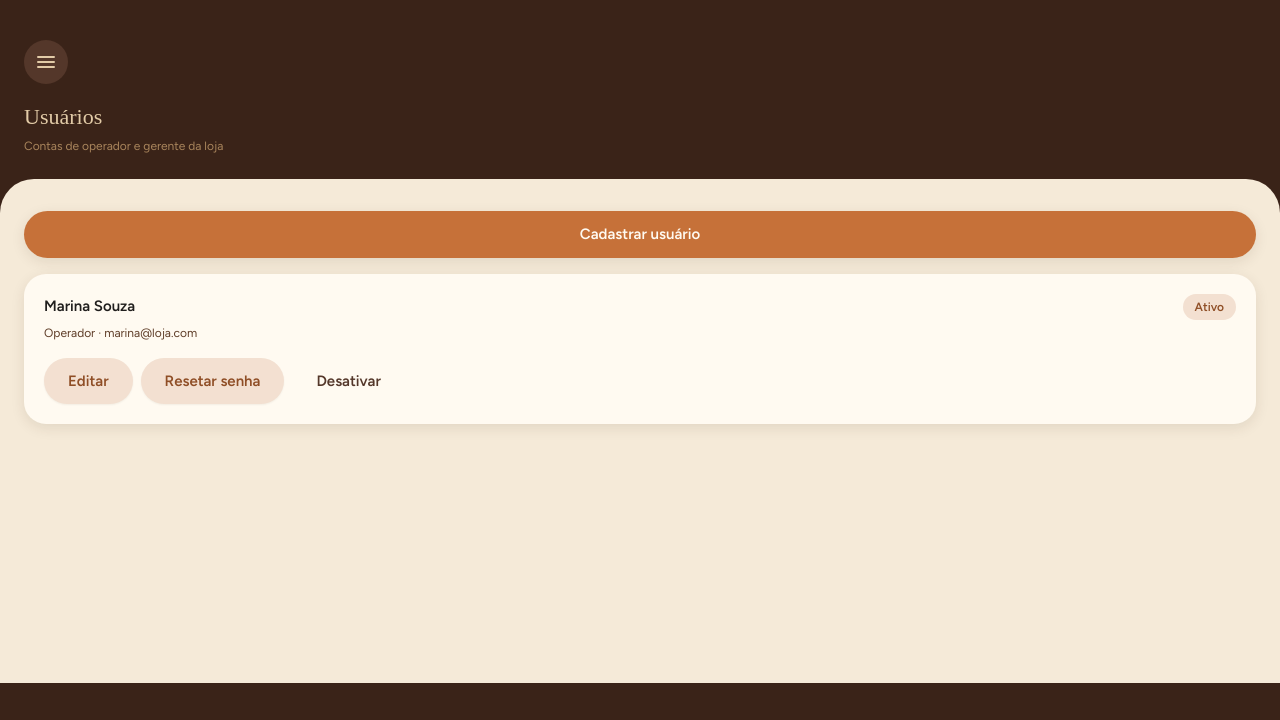
UsersScreen › mostra a senha inicial depois de resetar, para o admin comunicá-la ao funcionário
Expected: the text "Marina Souza" is shown, [44,294,135,317]
Click the button "Resetar senha" at (213, 381), box [141,358,284,404]
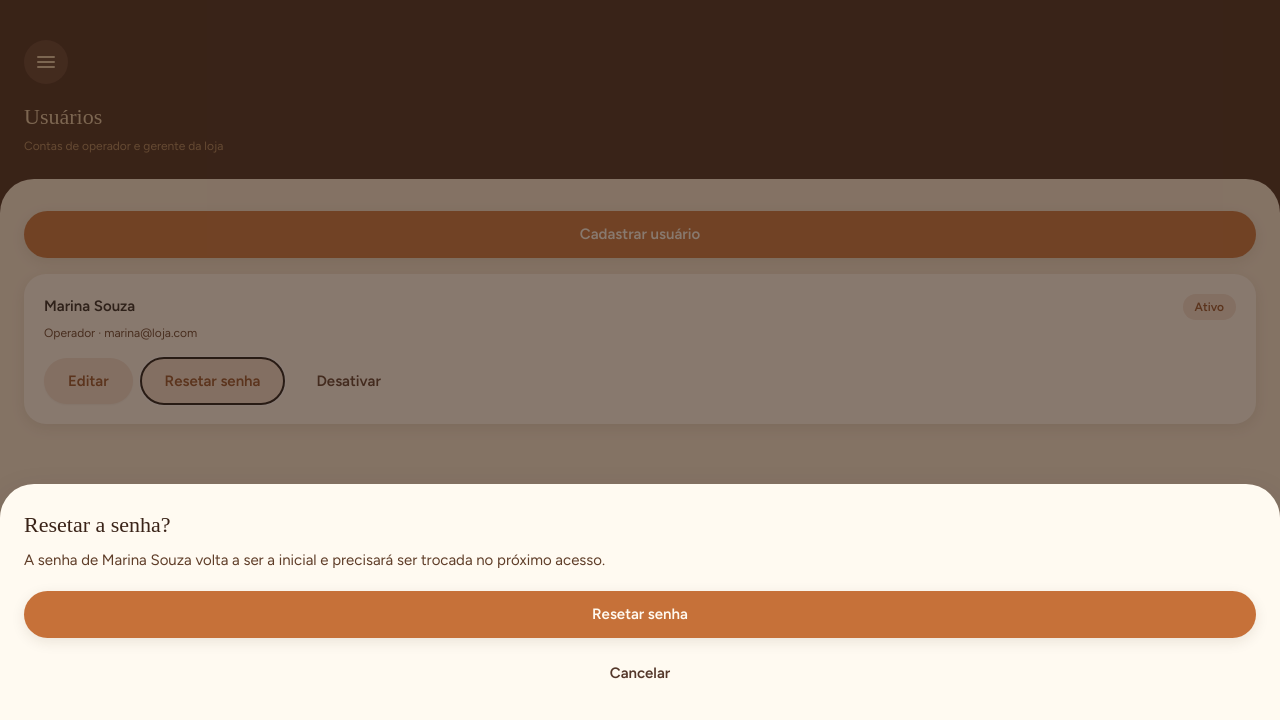
Click the button "Resetar senha" at (640, 614), box [24,591,1256,638]
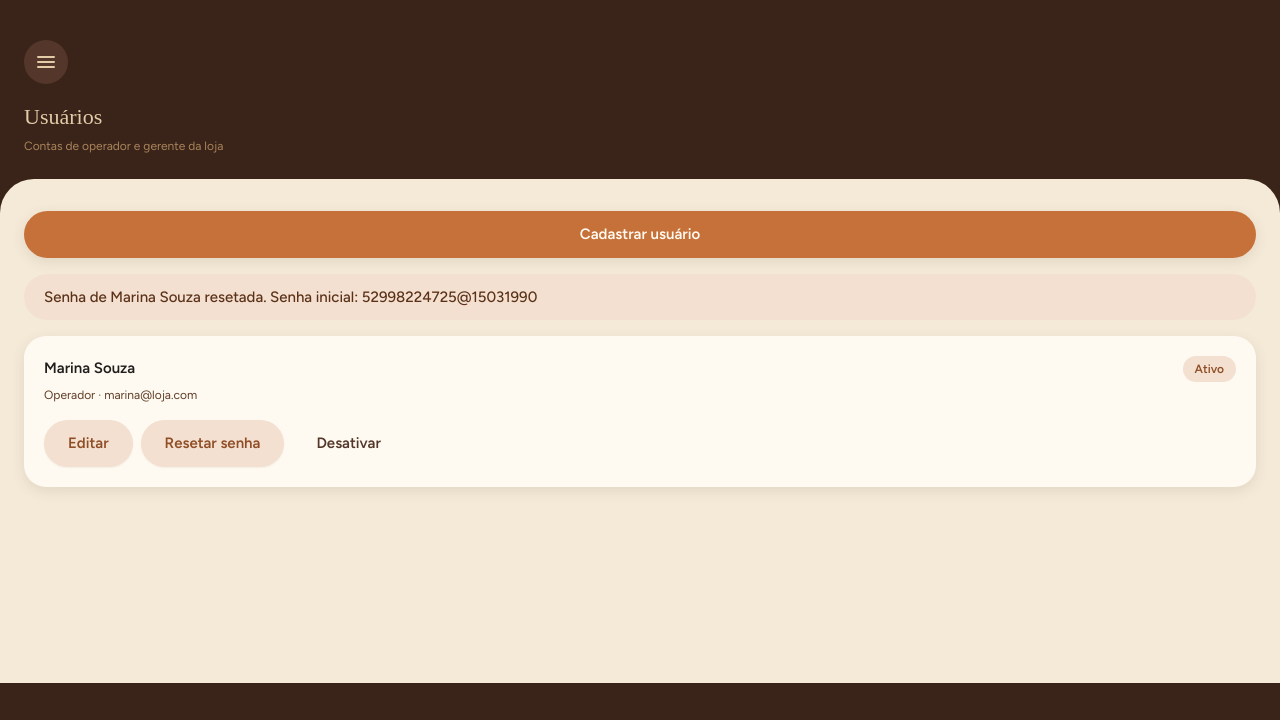
Expected: the text "Senha de Marina Souza resetada. Senha inicial: 52998224725@15031990" is shown, [24,274,1256,320]
